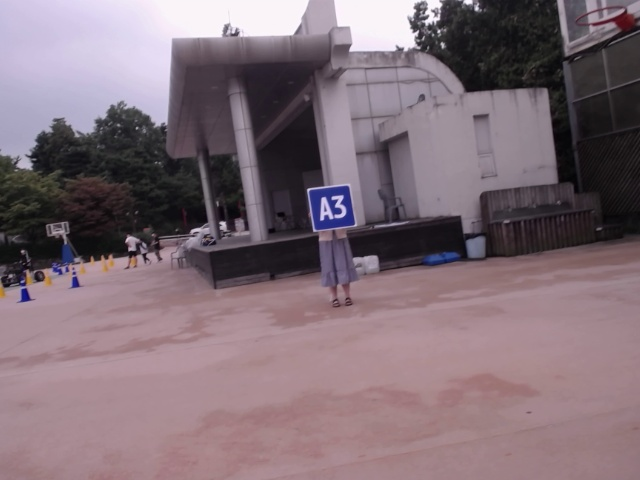delivery_a3: (308, 183, 358, 231)
